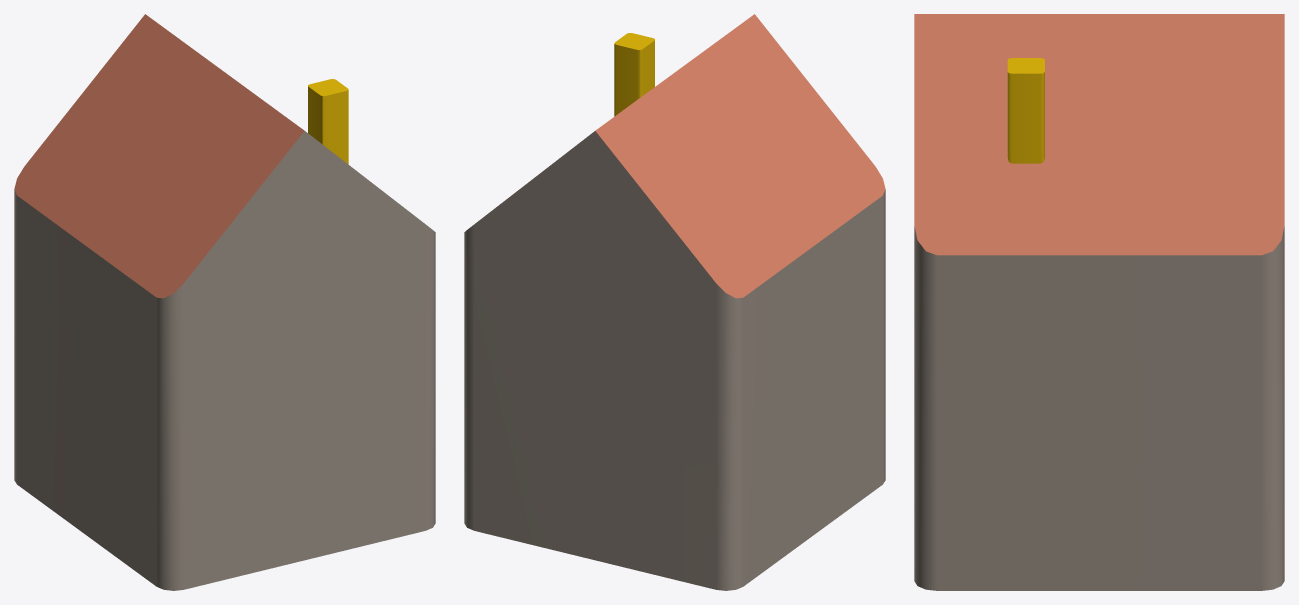
File: SM_SmallHouse.fbx
3 renders of one model, left to right at view 1: azimuth 30°, elevation 25°; view 2: azimuth 150°, elevation 25°; view 3: azimuth 270°, elevation 25°, orthographic. The views are drawn at different scales.
Parts seen in each view (by area): view 1: pCube5; view 2: pCube5; view 3: pCube5.
Boxes of the visible parts, <box> form: pCube5: <box>14,14,435,590</box>; pCube5: <box>464,14,885,590</box>; pCube5: <box>914,14,1284,590</box>.
Bounding box in the file's own units: 1 × 1.49 × 1.
